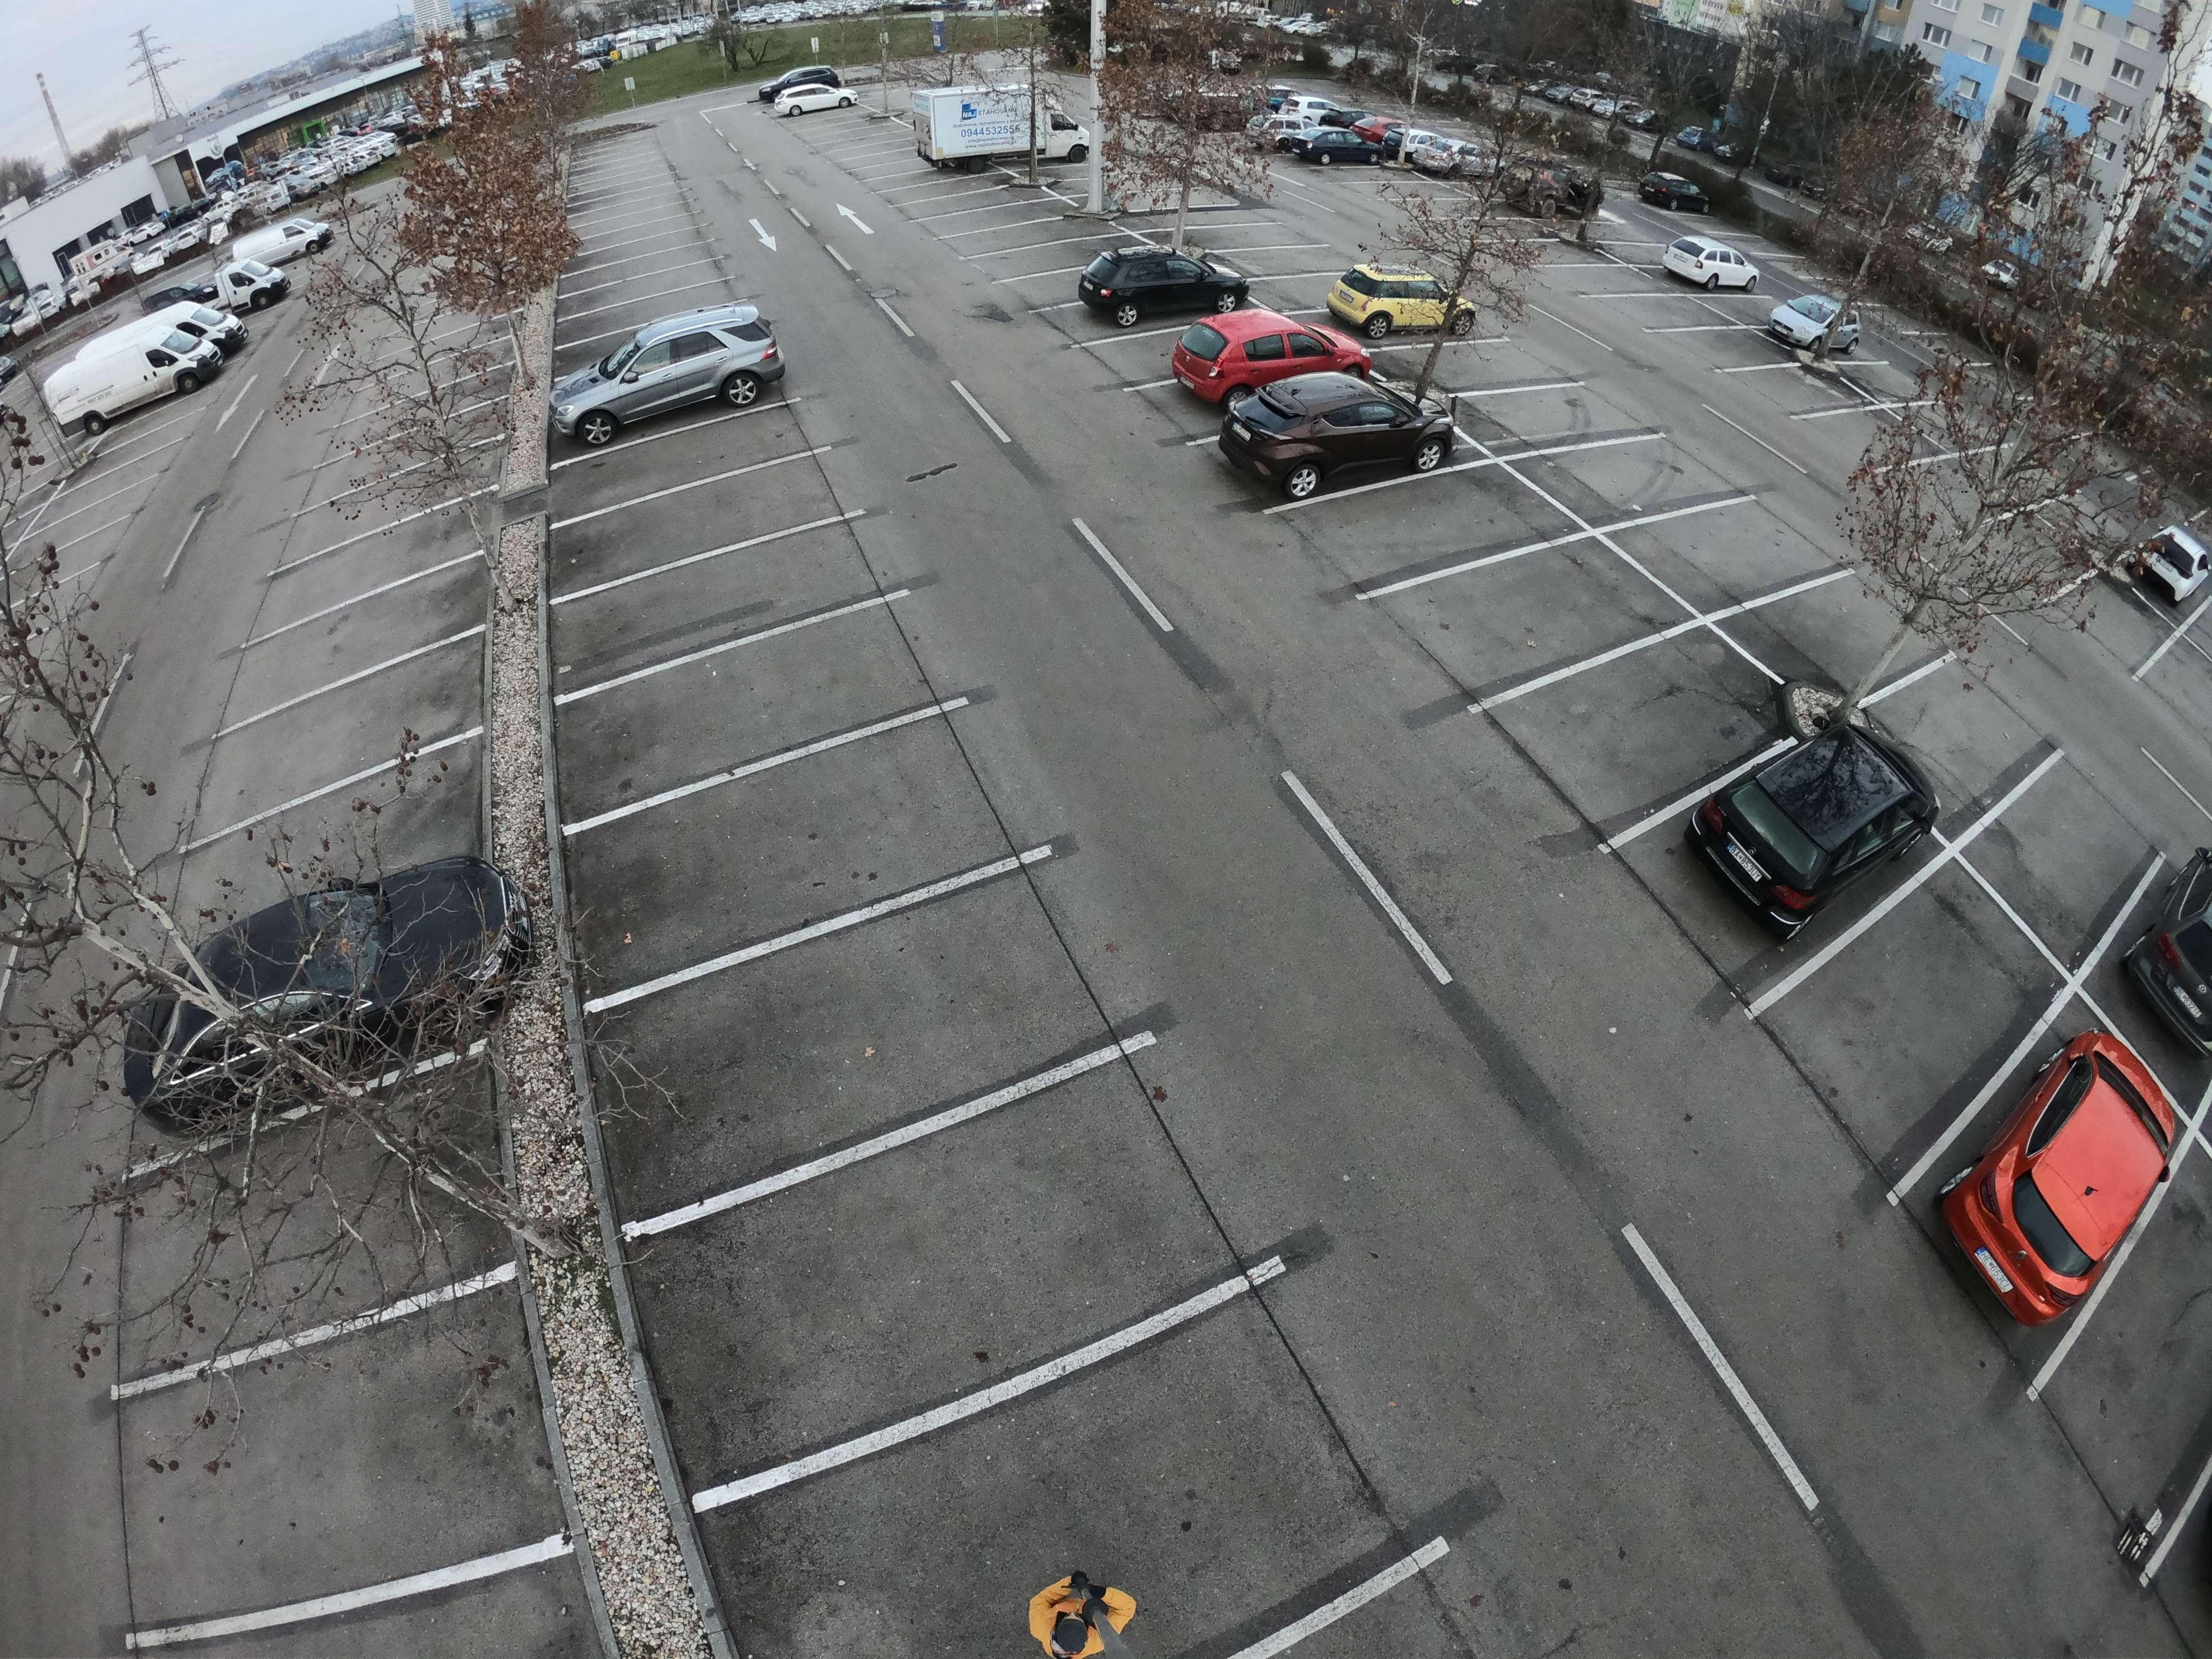empty: (108, 868, 531, 1126), (1956, 1021, 2198, 1314), (1698, 713, 1940, 924), (556, 310, 784, 437), (1226, 364, 1458, 484), (1167, 312, 1360, 410), (2134, 836, 2209, 1070), (1068, 246, 1252, 336), (1331, 256, 1482, 343), (1653, 239, 1763, 291), (1759, 298, 1858, 356), (761, 70, 867, 120)
occupied: (880, 1457, 1233, 1652), (763, 1168, 1008, 1408), (199, 1363, 428, 1593), (761, 924, 993, 1134), (225, 1141, 406, 1307), (702, 786, 935, 897), (665, 660, 867, 753), (1897, 666, 2008, 821), (1841, 945, 2000, 1046), (254, 793, 390, 910), (1775, 570, 1874, 711), (1578, 683, 1733, 765), (291, 697, 399, 793), (674, 556, 822, 626), (1467, 579, 1613, 648), (2019, 805, 2142, 882), (334, 594, 448, 662), (634, 430, 754, 493), (1653, 525, 1771, 586), (1381, 490, 1510, 544), (653, 486, 770, 545), (1568, 457, 1676, 511), (1022, 211, 1087, 296), (359, 523, 432, 592), (1493, 385, 1554, 444)
